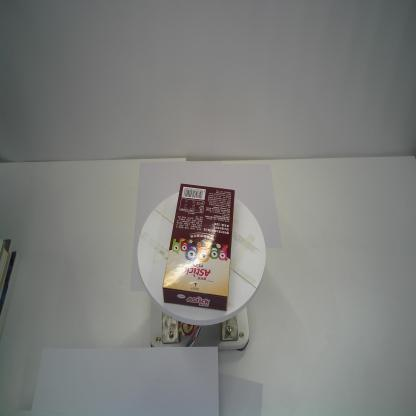Dessert: (162, 182, 235, 312)
